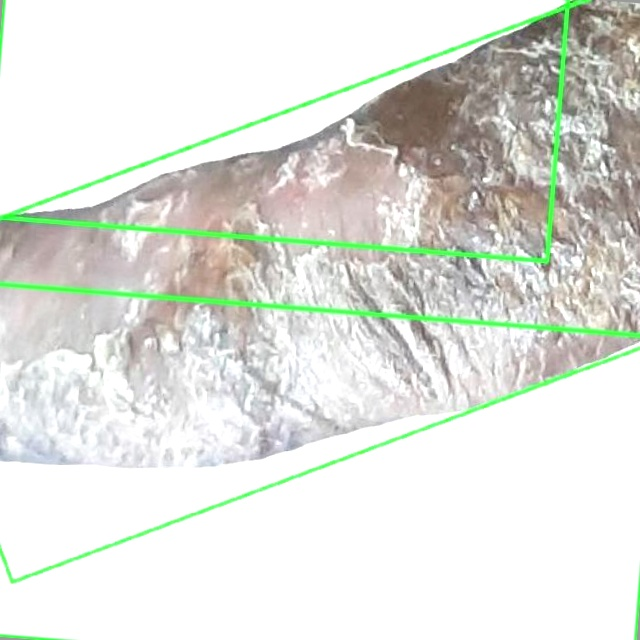Eczema: (0, 13, 639, 582), (0, 284, 639, 639), (0, 0, 567, 261)
